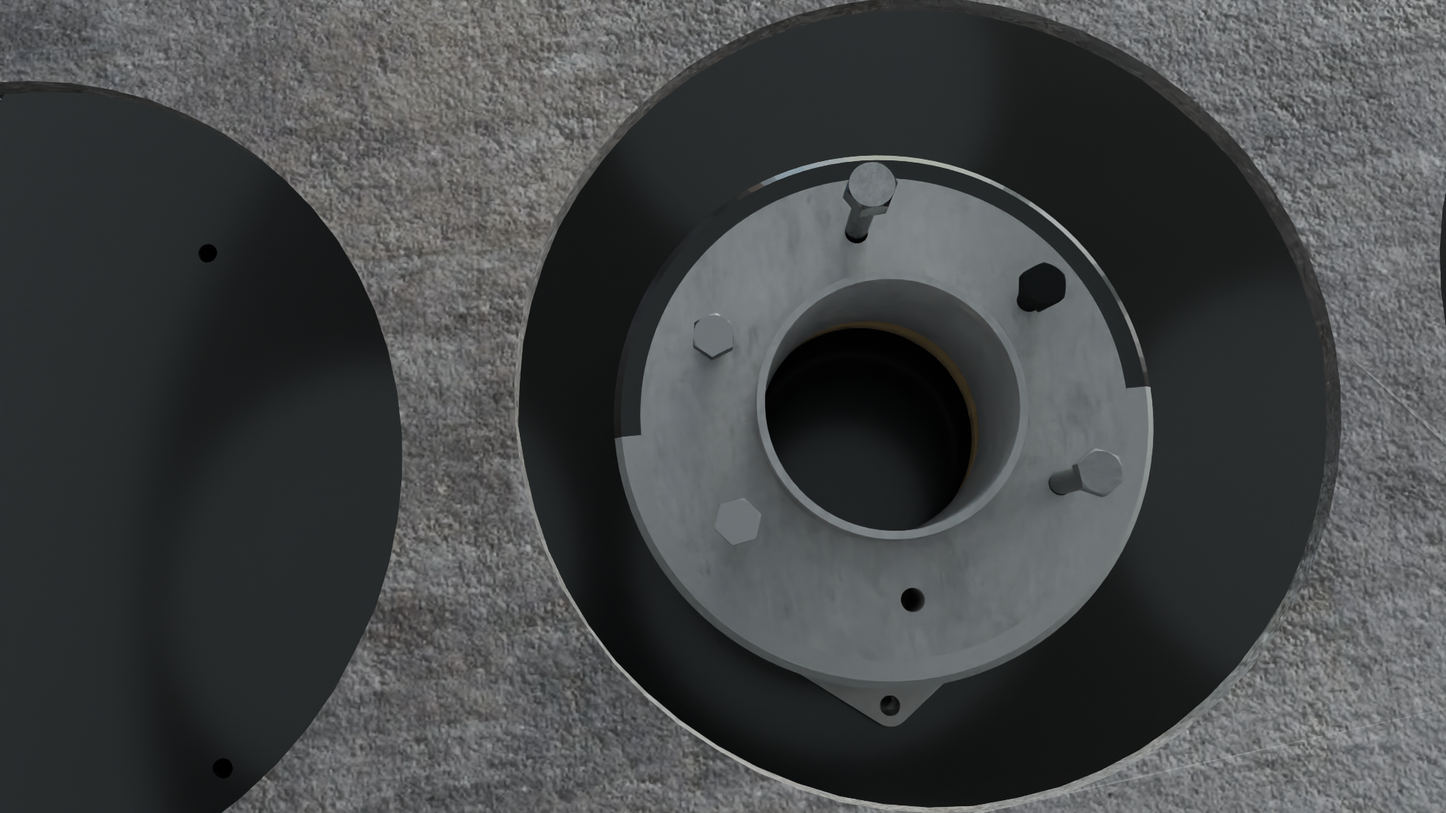bolt: (845, 162, 898, 211), (1078, 448, 1124, 496), (715, 498, 761, 546), (1023, 262, 1066, 308), (693, 312, 734, 358)
